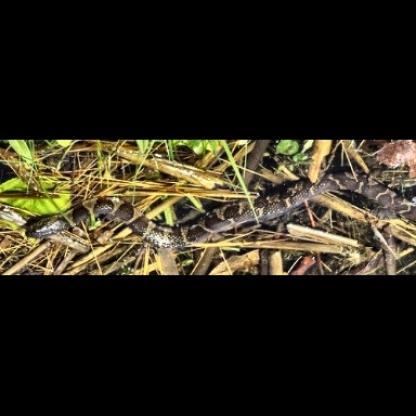Snake: (22, 172, 412, 247)
